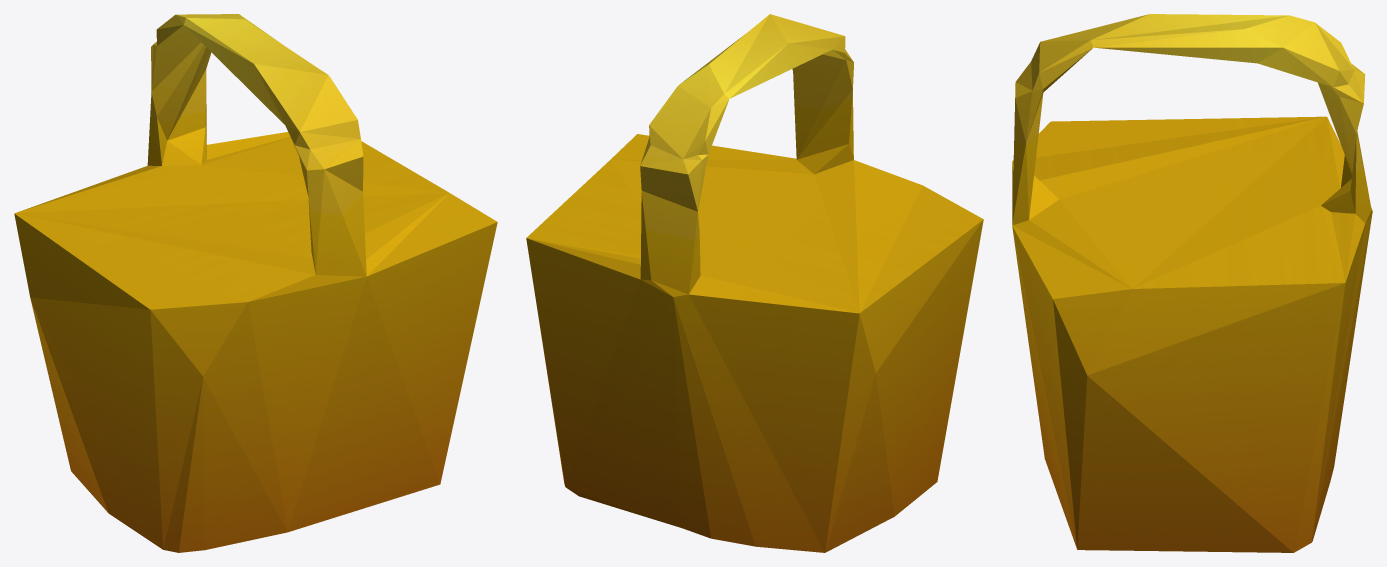
The model's file is item.FBX.
3 renders of one model, left to right at view 1: azimuth 30°, elevation 25°; view 2: azimuth 150°, elevation 25°; view 3: azimuth 270°, elevation 25°, orthographic. The views are drawn at different scales.
Visible parts, largest first — view 1: basket; view 2: basket; view 3: basket.
Boxes of the visible parts, <box> form: basket: <box>14,14,497,552</box>; basket: <box>526,14,983,552</box>; basket: <box>1012,14,1372,552</box>.
Size of the model in its own units: 2.61 by 3.11 by 2.18.
1 material, 1 textured.
